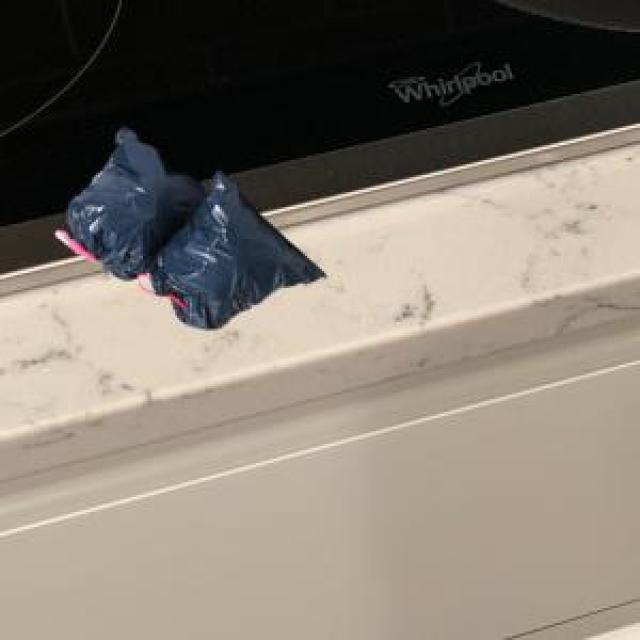waste: (60, 128, 325, 328)
